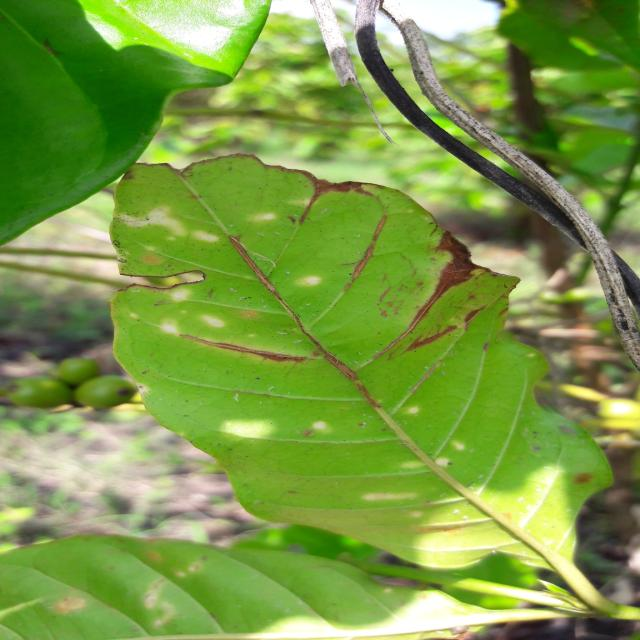Plaga-AranaRoja: (109, 153, 615, 616)
